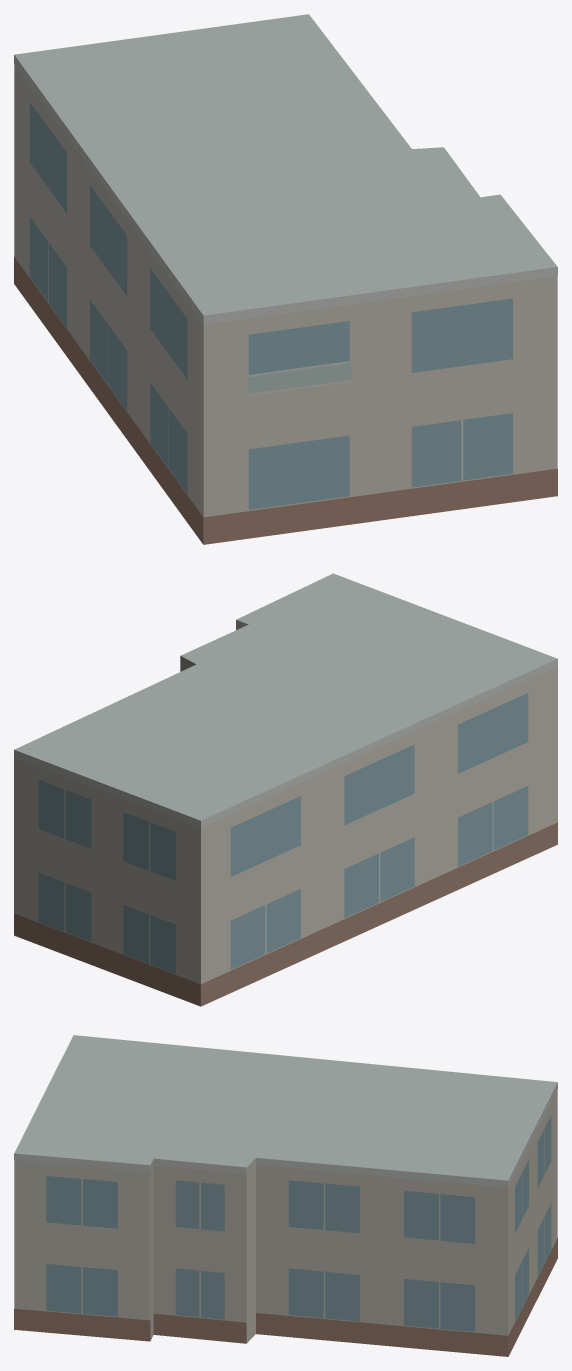
File: survey-upis-32704951.glb
The picture shows the model from 3 angles, top to bottom: view 1: azimuth 30°, elevation 25°; view 2: azimuth 150°, elevation 25°; view 3: azimuth 270°, elevation 25°; orthographic projection. The views are drawn at different scales.
Visible parts, largest first — view 1: survey-upis-32704951.tmp; view 2: survey-upis-32704951.tmp; view 3: survey-upis-32704951.tmp.
Boxes of the visible parts, bbox=[...] form: survey-upis-32704951.tmp: bbox=[14, 14, 557, 544]; survey-upis-32704951.tmp: bbox=[14, 573, 557, 1006]; survey-upis-32704951.tmp: bbox=[14, 1035, 557, 1356].
Size of the model in its own units: 10.82 by 6.1 by 17.06.
